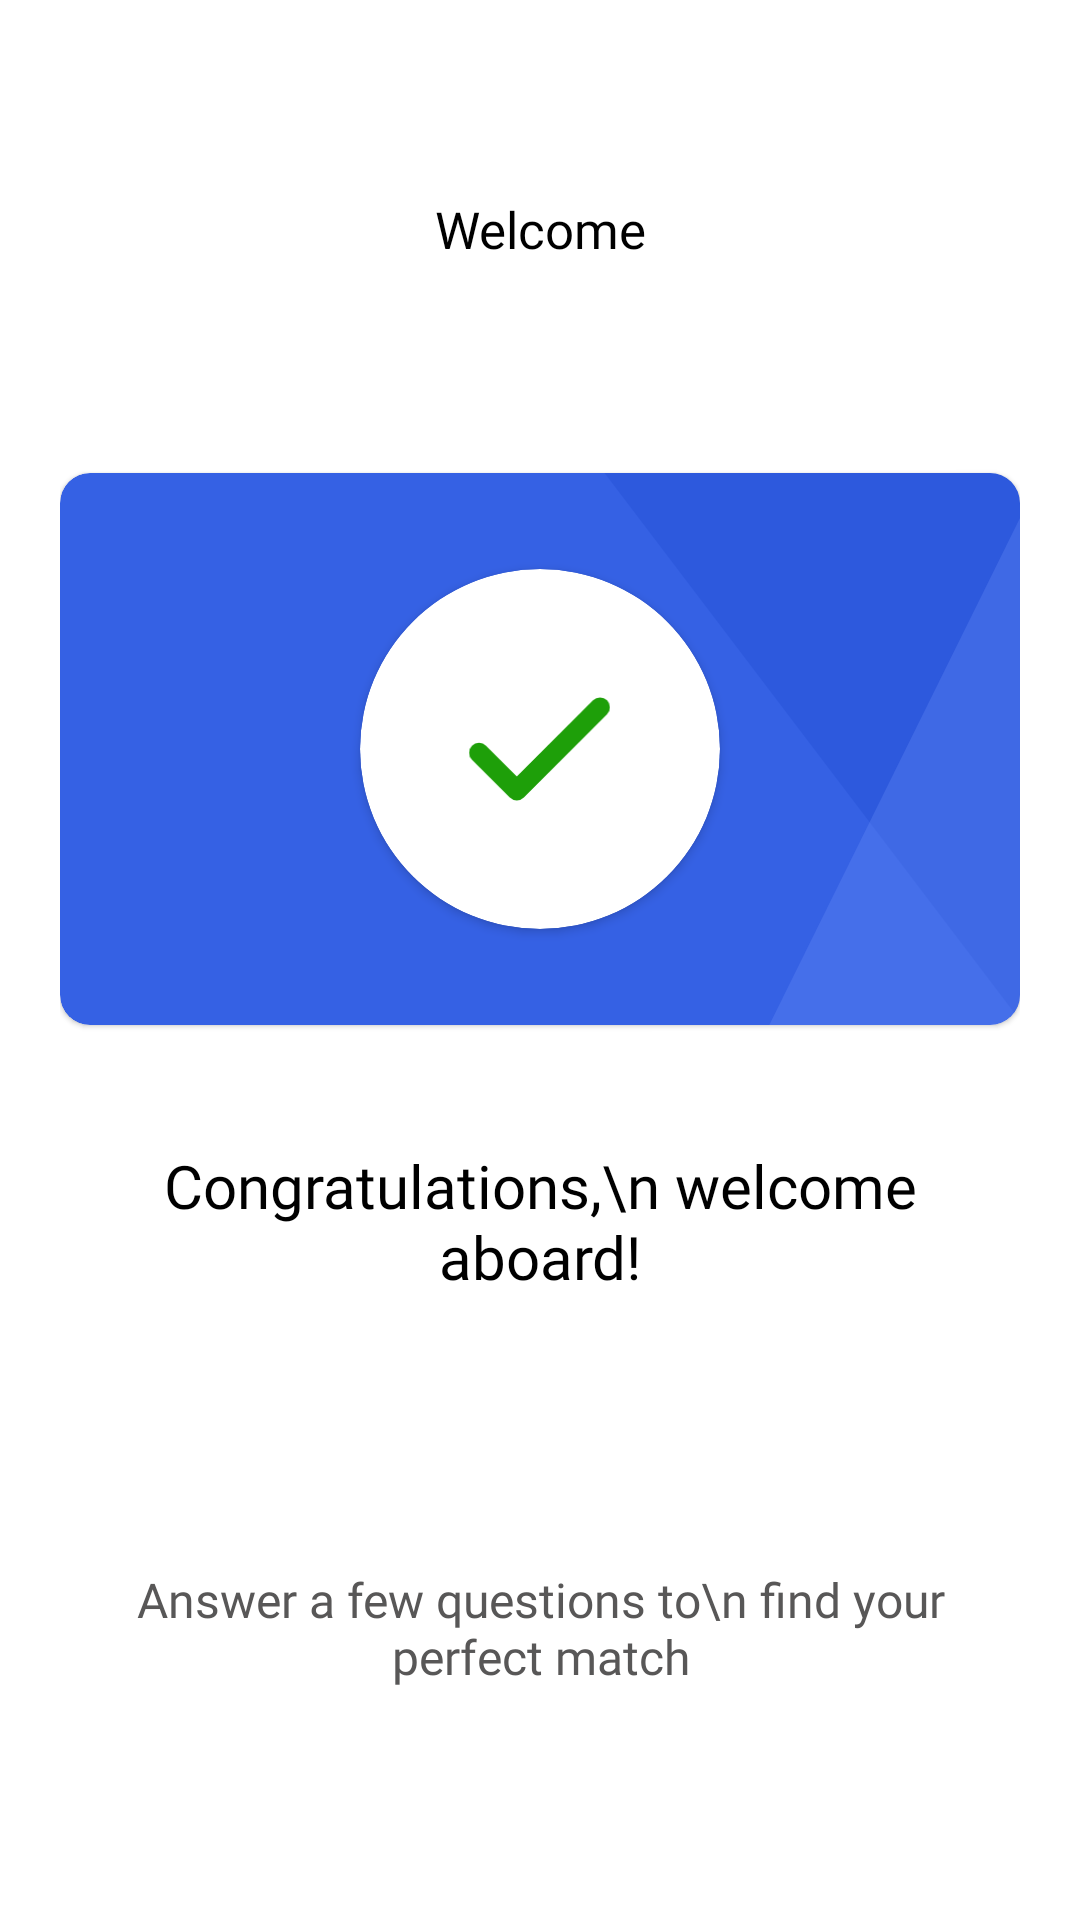

Screen size 1080x1920. Icon name, then its center in pixels as point (x, y):
tick: point (539, 749)
